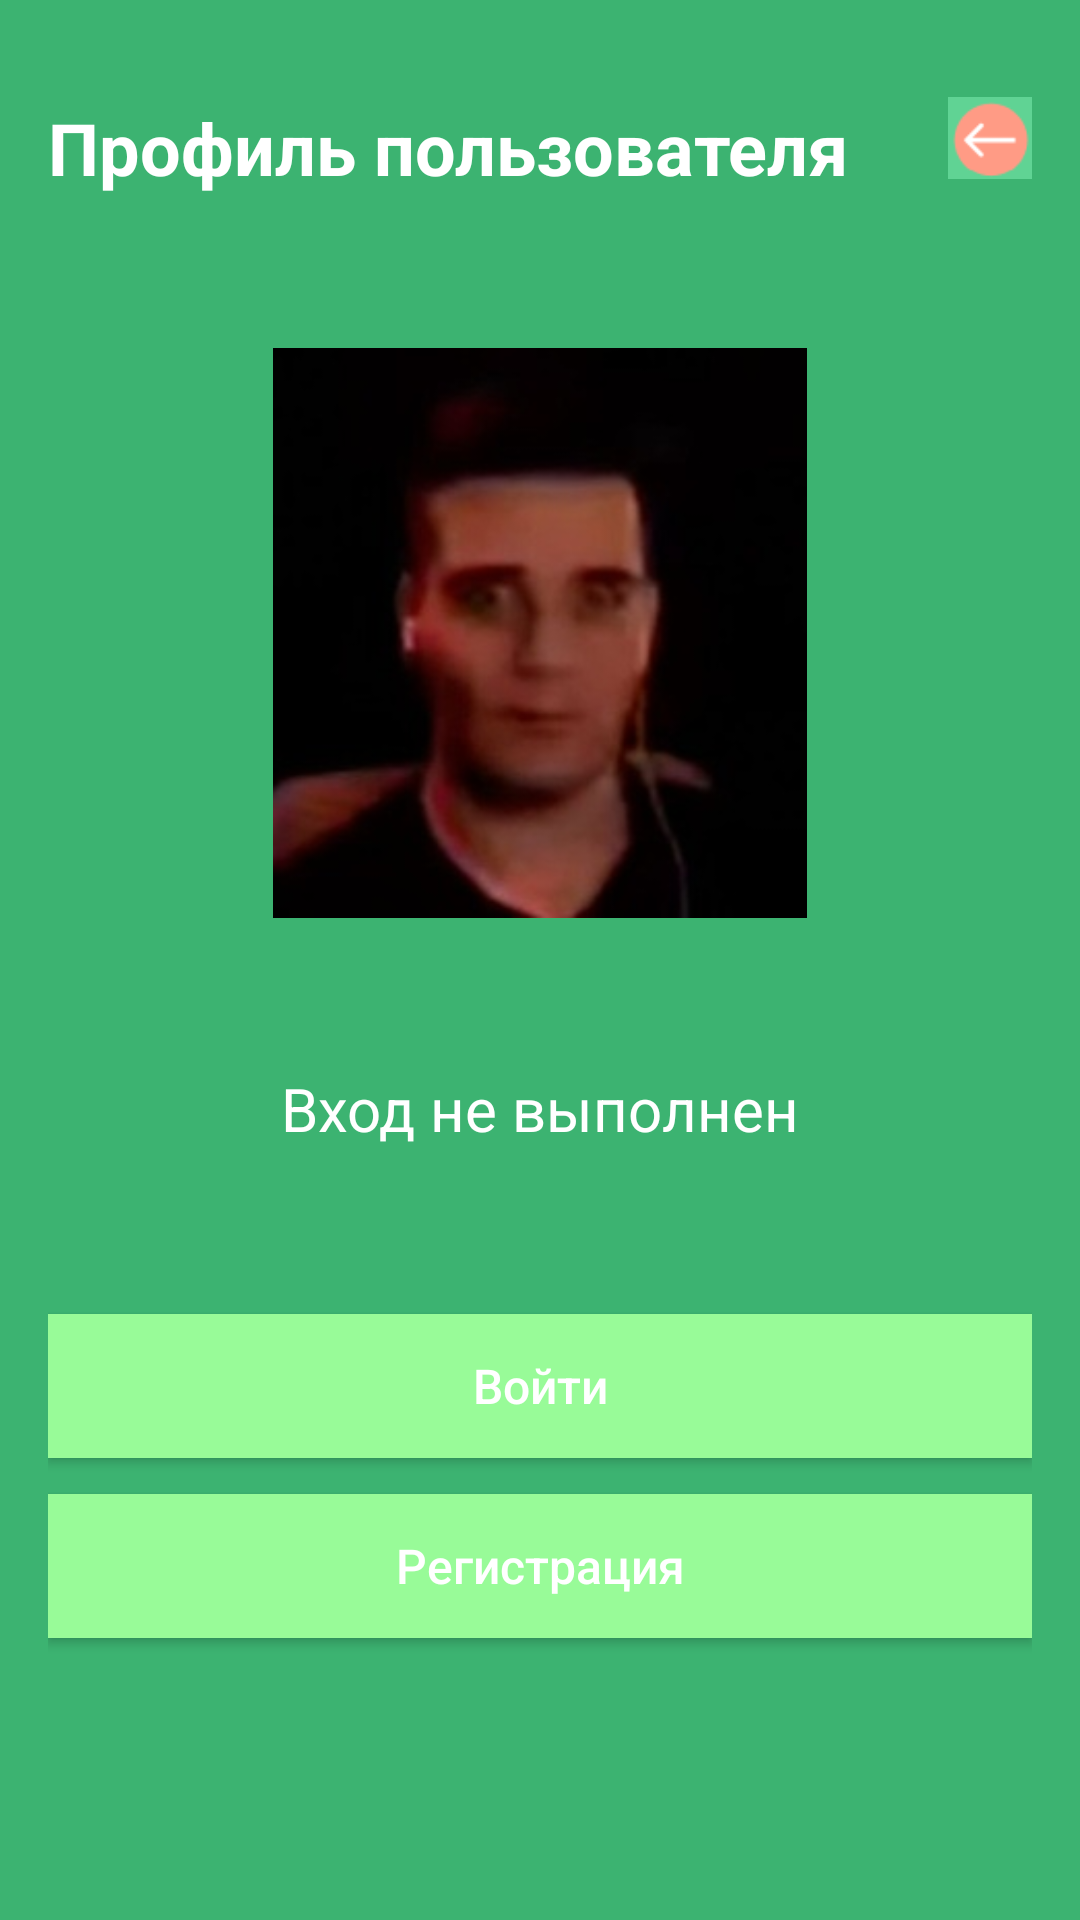

Locate icon controls on the screen. Image size 1080x1920, boxes as (x1, y1, x2, y2).
arrow: (948, 97, 1032, 179)
